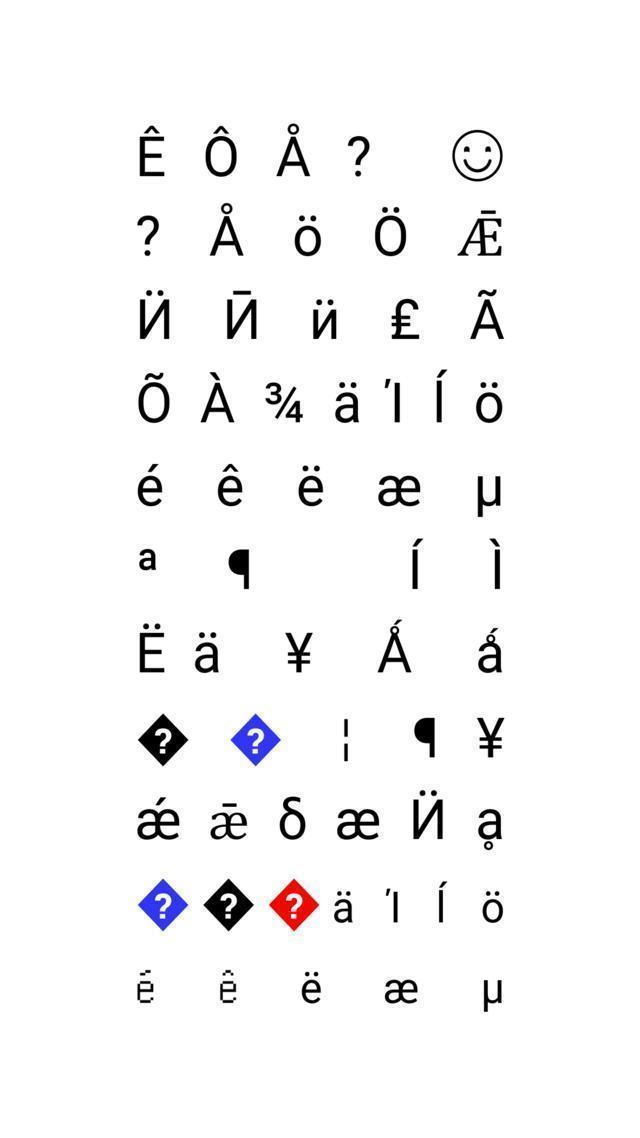ASCII: (452, 200, 510, 264), (133, 873, 189, 937), (404, 778, 454, 848), (450, 124, 506, 186), (462, 282, 514, 348), (208, 448, 256, 519), (125, 124, 178, 188), (124, 284, 178, 346), (124, 460, 178, 522), (136, 714, 194, 770), (268, 869, 318, 933), (128, 608, 172, 680), (232, 706, 282, 769), (468, 461, 514, 528), (126, 366, 174, 430), (216, 282, 262, 348), (204, 874, 254, 932), (198, 199, 245, 260), (372, 613, 415, 678), (274, 116, 314, 184), (279, 620, 326, 677), (468, 706, 514, 763), (197, 124, 242, 182), (263, 373, 305, 433), (372, 203, 414, 262), (199, 367, 236, 432), (286, 205, 331, 258), (471, 622, 512, 679), (303, 292, 344, 348), (468, 972, 516, 1019), (385, 292, 426, 346), (186, 621, 224, 678), (466, 376, 504, 432), (329, 374, 367, 430), (219, 542, 260, 592), (126, 961, 164, 1014), (411, 710, 444, 767), (212, 963, 248, 1014), (292, 960, 330, 1008), (476, 801, 508, 854), (326, 886, 361, 930), (478, 883, 507, 933)
